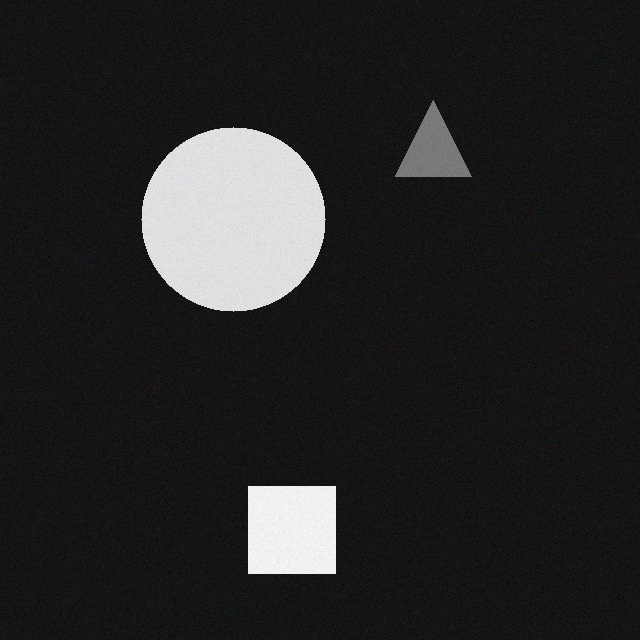circle: (153, 128, 337, 312)
square: (260, 487, 347, 574)
triangle: (407, 101, 483, 177)
